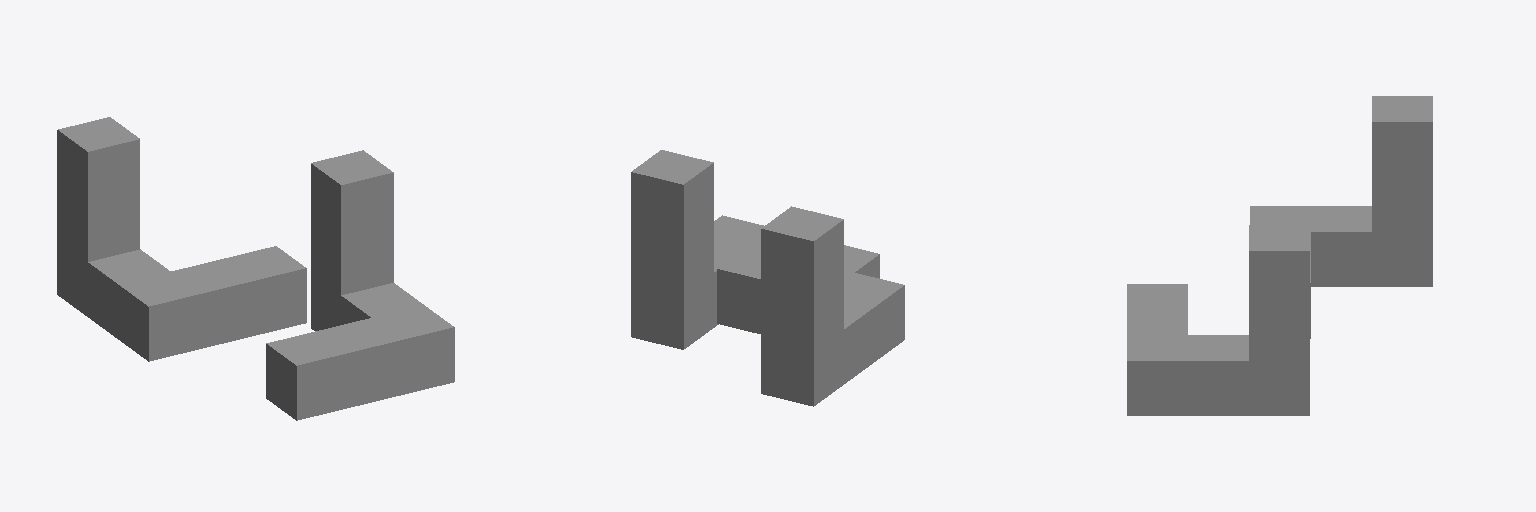
The model's file is rotstim.obj.
3 renders of one model, left to right at view 1: azimuth 30°, elevation 25°; view 2: azimuth 150°, elevation 25°; view 3: azimuth 270°, elevation 25°, orthographic.
Parts seen in each view (by area): view 1: FlippedStim, OrigStim; view 2: FlippedStim, OrigStim; view 3: OrigStim, FlippedStim.
Part boxes in pixels (bbox=[...]): FlippedStim: bbox=[57, 117, 306, 361]; OrigStim: bbox=[266, 150, 454, 420]; FlippedStim: bbox=[717, 206, 904, 406]; OrigStim: bbox=[631, 150, 879, 349]; OrigStim: bbox=[1127, 225, 1309, 415]; FlippedStim: bbox=[1250, 96, 1432, 338].
Bounding box in the file's own units: 9.28 × 7.28 × 10.05.